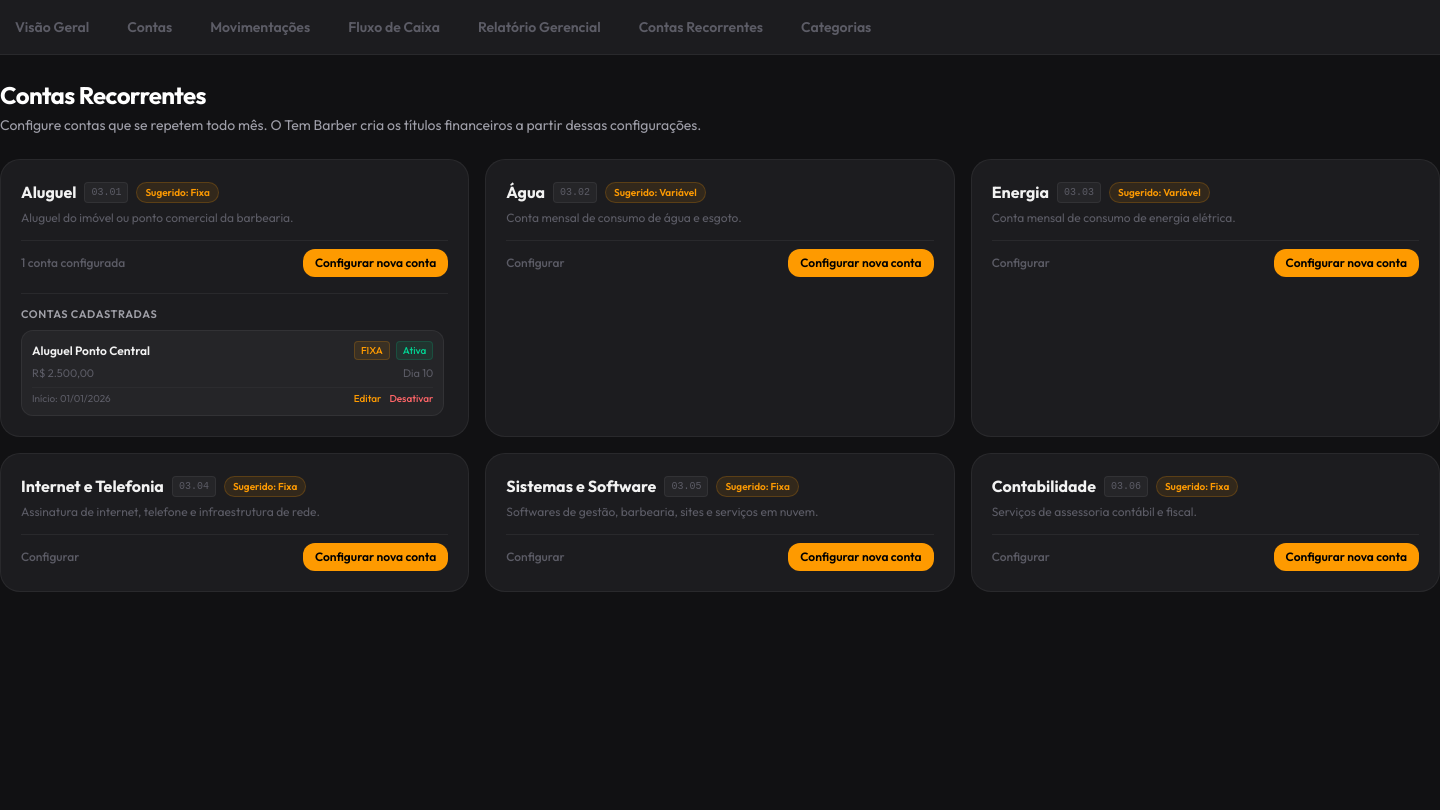
Test case: ConfiguracoesFinanceirasPage — UX-C Suite › 14. modal de Água inicia com modo VARIABLE
The image size is (1440, 810).
Expected: the heading "Água" is shown, top-left (506, 180), bottom-right (545, 204)
Click the button "Configurar nova conta" below "03.02". click: (861, 262)
box: top-left (788, 248), bottom-right (934, 276)
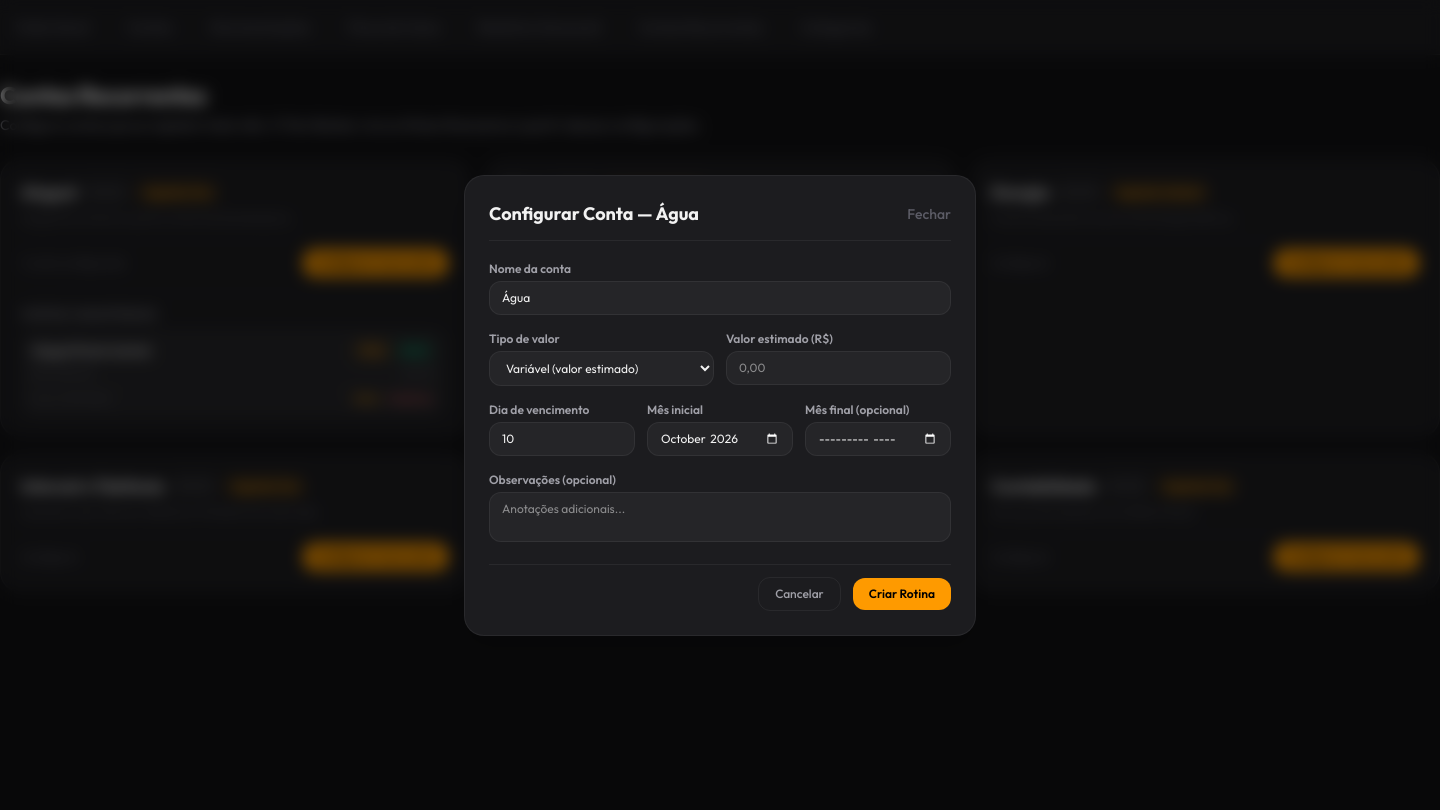
Now the dropdown shows "Variável (valor estimado)", box top-left (489, 350), bottom-right (714, 386)
